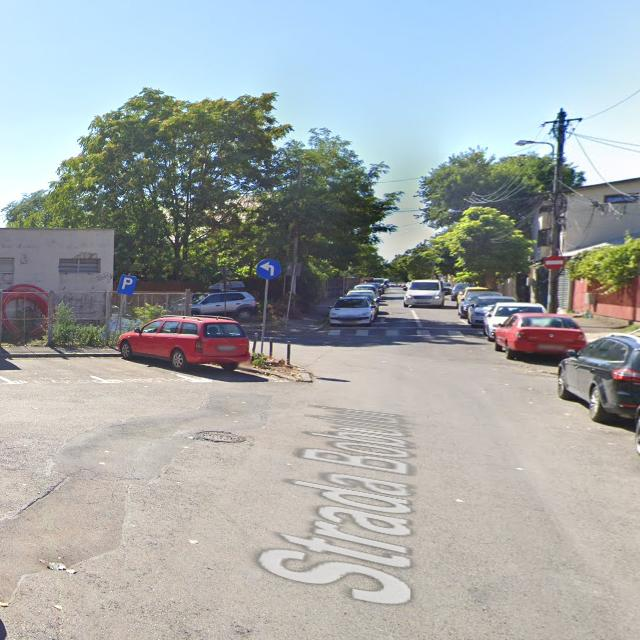forb_ahead: (544, 255, 564, 269)
info_parking: (118, 274, 136, 295)
mand_left: (256, 258, 282, 280)
